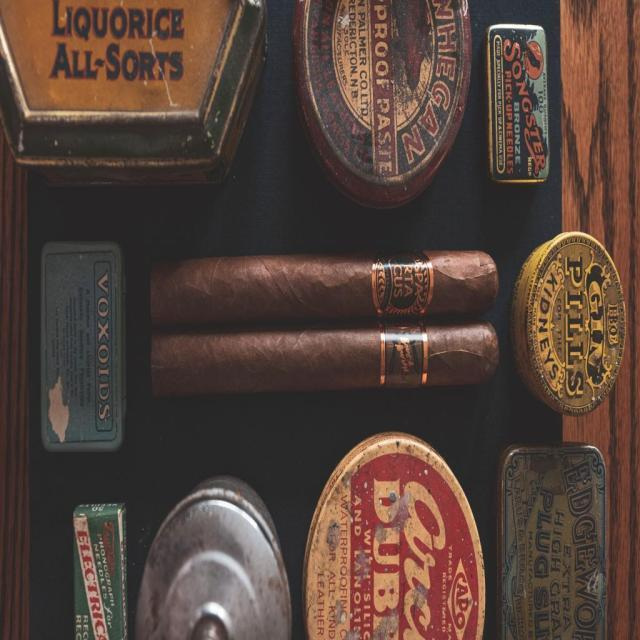smoking: (145, 245, 505, 405)
